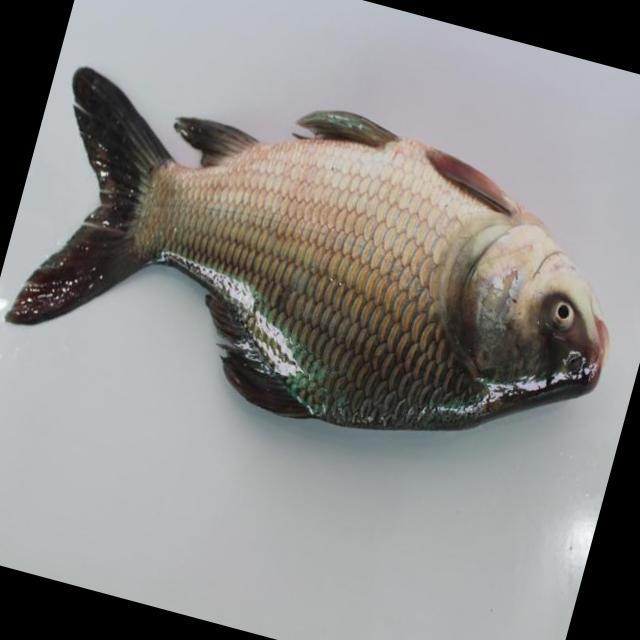Catla: (10, 55, 613, 432)
